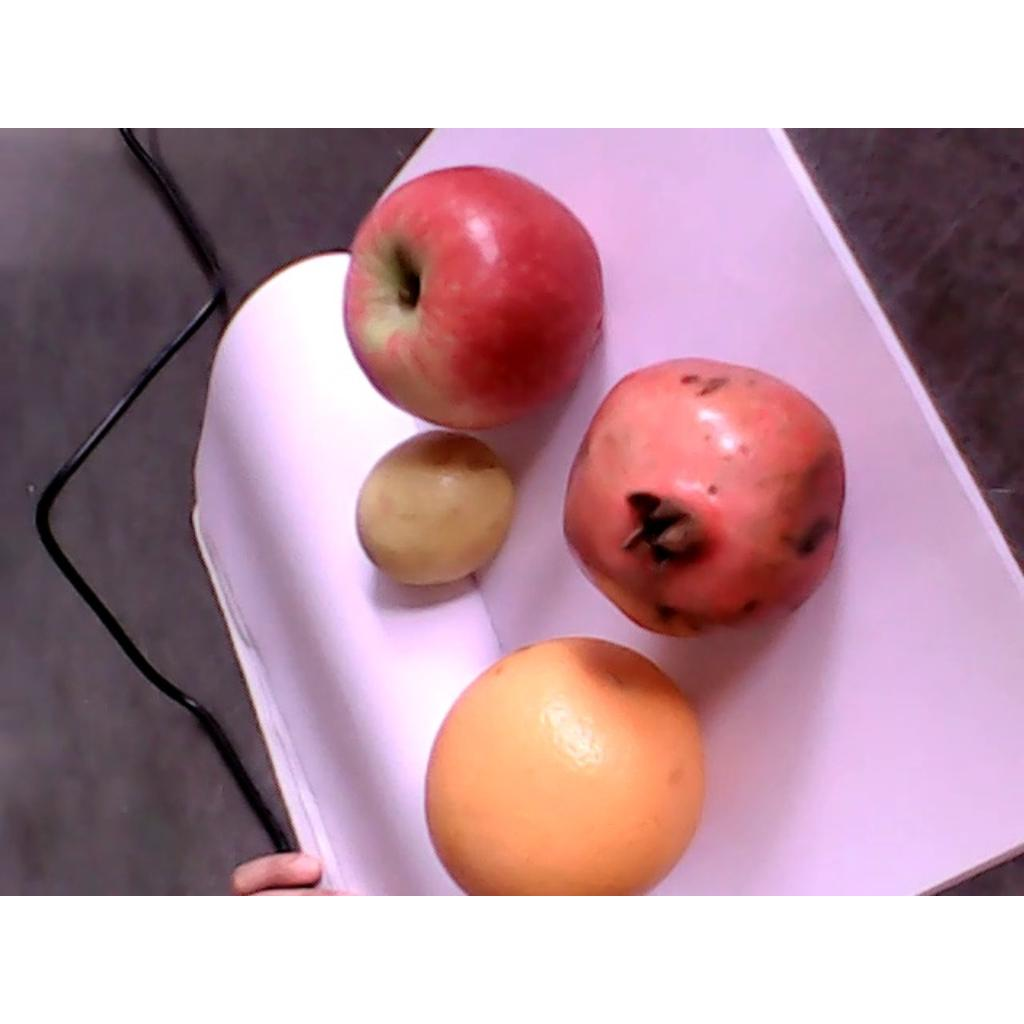apple: (342, 165, 604, 428)
orange: (424, 637, 703, 893), (353, 428, 520, 582)
pomegranate: (563, 356, 840, 640)
